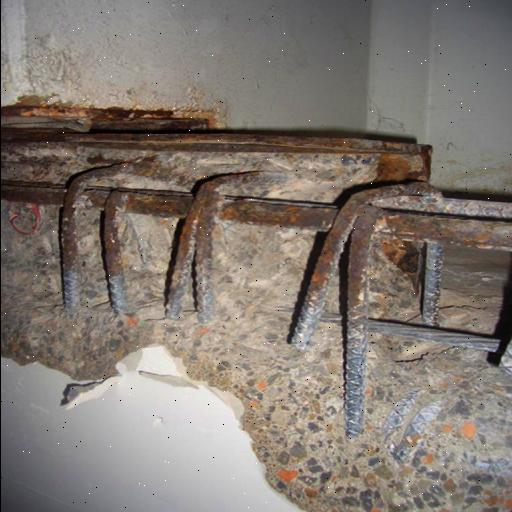spalling: (0, 128, 512, 511)
